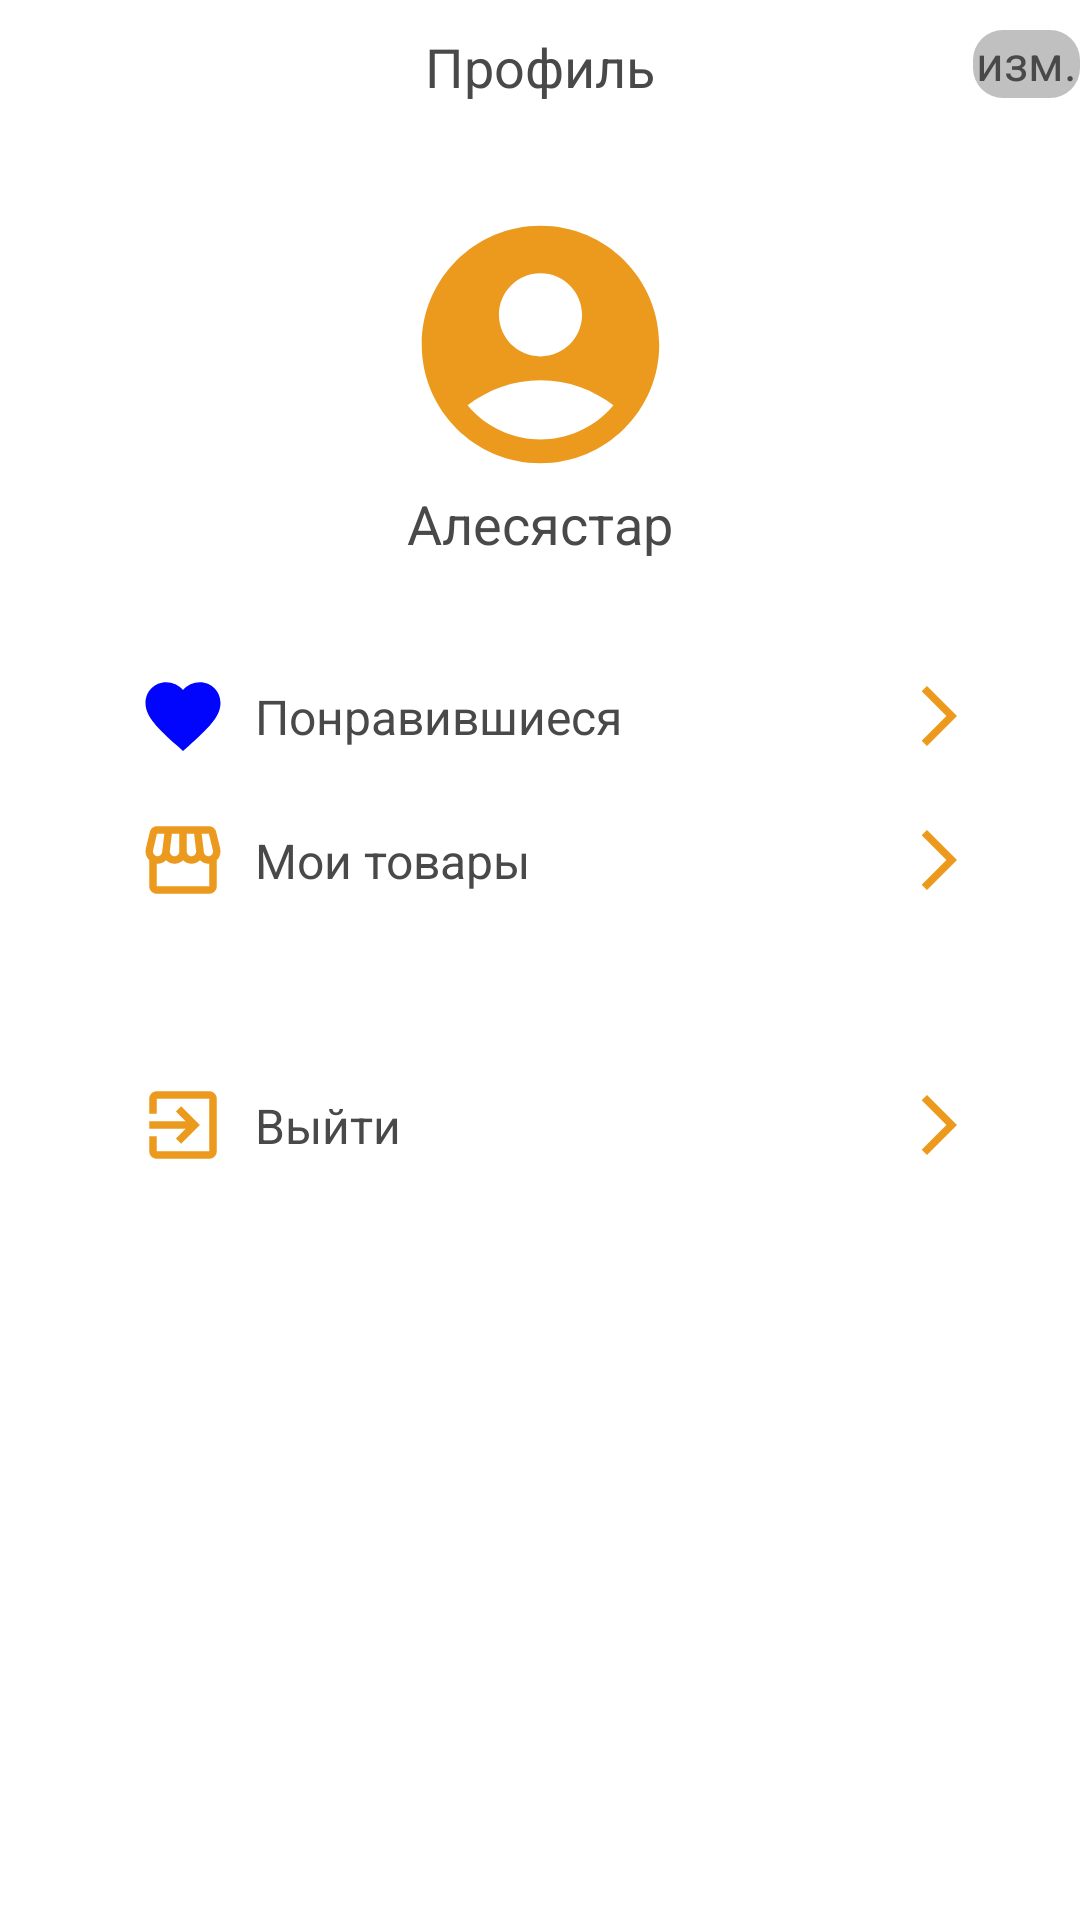

Screen size 1080 × 1920. Icon name, then its box in pixels as (x1, y1, x2, y2):
account circle: (421, 225, 660, 464)
arrow: (922, 686, 957, 746), (922, 830, 957, 890), (922, 1095, 957, 1155)
exit to app: (149, 1091, 217, 1159)
heart: (145, 682, 221, 751)
store: (145, 826, 221, 894)
